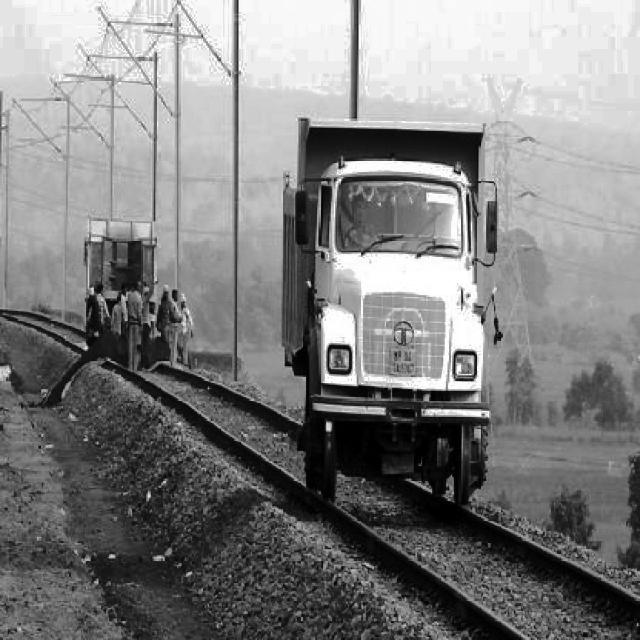HCV: (260, 153, 484, 450)
